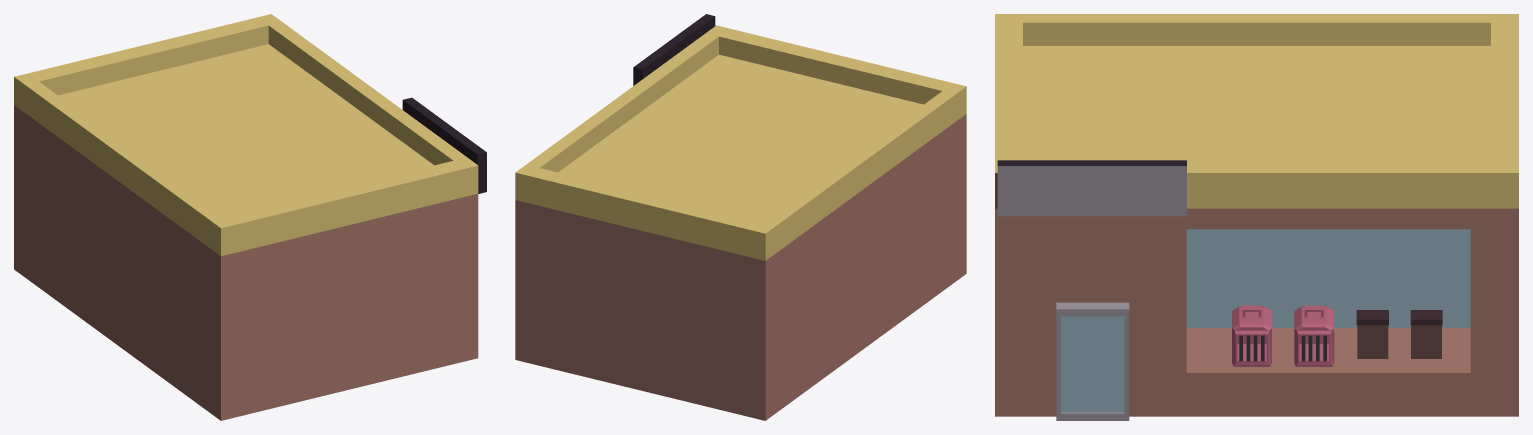
File: PETSHOP_01.fbx
3 views of the same model, side by side, from view 1: azimuth 30°, elevation 25°; view 2: azimuth 150°, elevation 25°; view 3: azimuth 270°, elevation 25° (orthographic). The views are drawn at different scales.
Visible parts, largest first — view 1: shop, tabela; view 2: shop, tabela; view 3: shop, tabela, door, Cube.001, Cube, Cube.002, Cube.003.
Part boxes in pixels (<box>): shop: <box>14,14,478,420</box>; tabela: <box>402,97,486,193</box>; shop: <box>515,25,966,420</box>; tabela: <box>633,14,715,85</box>; shop: <box>995,14,1518,416</box>; tabela: <box>997,160,1186,216</box>; door: <box>1056,302,1129,420</box>; Cube.001: <box>1294,305,1334,366</box>; Cube: <box>1232,305,1271,366</box>; Cube.002: <box>1356,310,1388,358</box>; Cube.003: <box>1410,310,1442,358</box>.
Bounding box in the file's own units: 634 × 459 × 849.
Materials: 5 (5 with a texture image).
